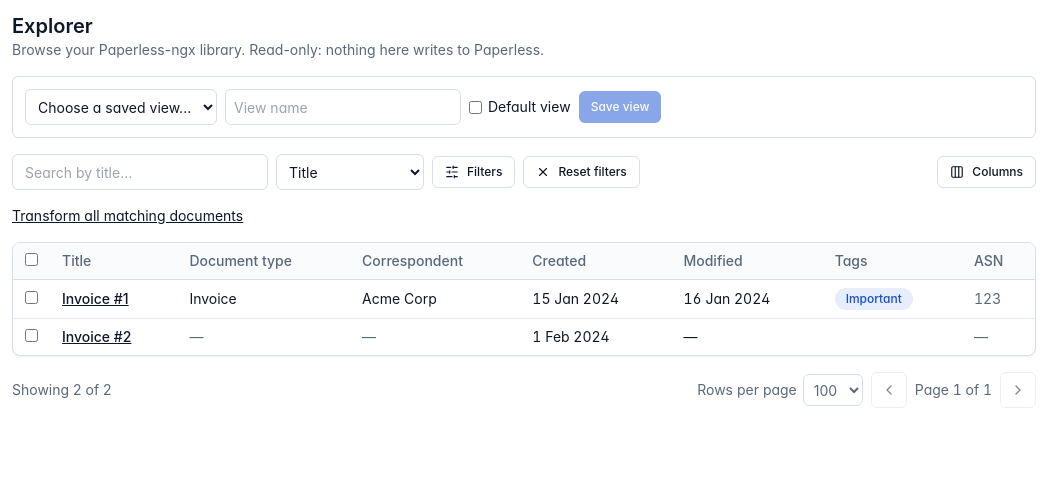
ExplorerPage › select-one and select-current-page both update the selection summary
Expected: the link "Invoice #1" is shown, [62, 290, 129, 307]
What coordinates should you click on to do the following:
click the checkbox named "Select row" next to "Invoice #1"
I would click on:
 (32, 298)
Its box is [25, 291, 38, 304].
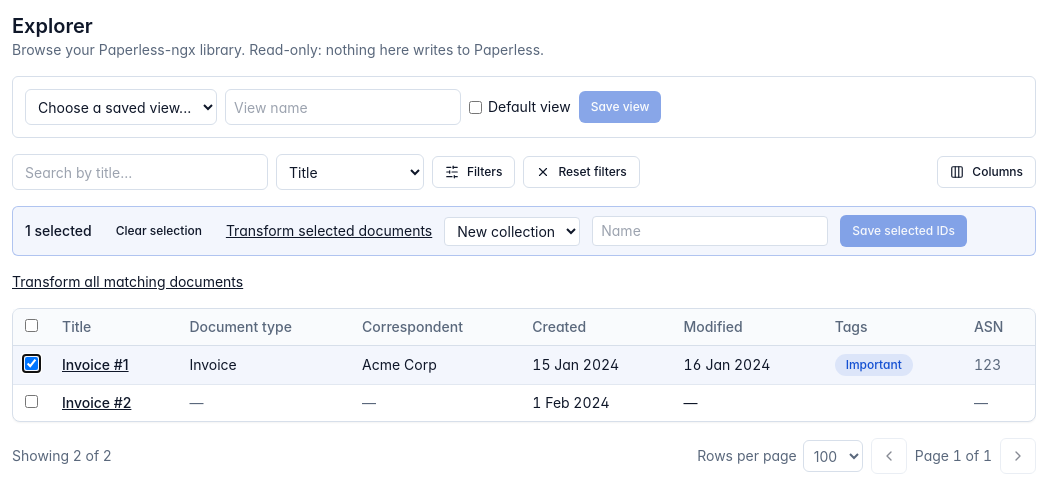
Expected: the text "1 selected" is shown, [25, 221, 92, 241]
What coordinates should you click on to do the following:
click the button "Clear selection"
I would click on:
 (159, 231)
Its box is [104, 215, 214, 247].
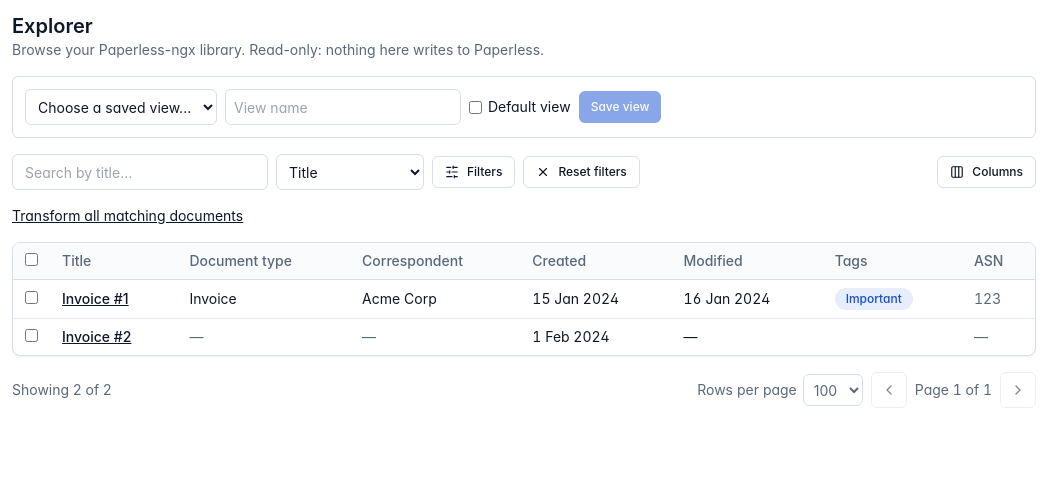
Expected: the text "1 selected" is gone
What coordinates should you click on to do the following:
click the checkbox named "Select all on this page"
I would click on:
 (32, 260)
Its box is [25, 253, 38, 266].
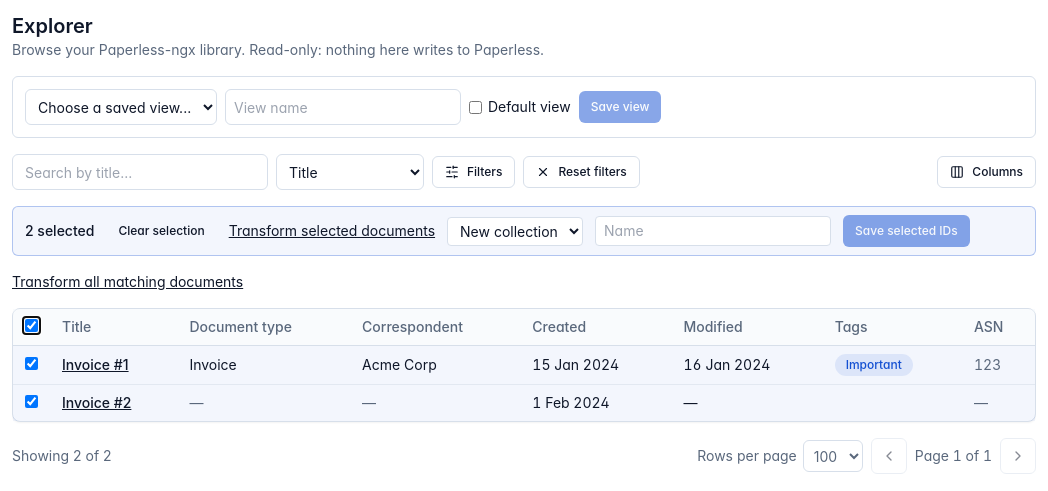
Expected: the text "2 selected" is shown, [25, 221, 94, 241]
